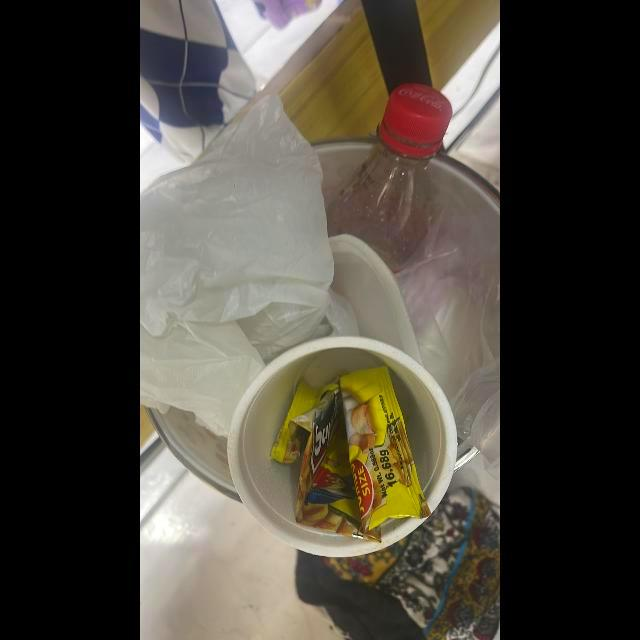food_wrapper: (272, 366, 432, 540)
plastic_bag: (141, 90, 360, 438), (393, 176, 500, 482)
plastic_bottle: (326, 83, 452, 273)
plastic_container: (228, 332, 459, 559)
